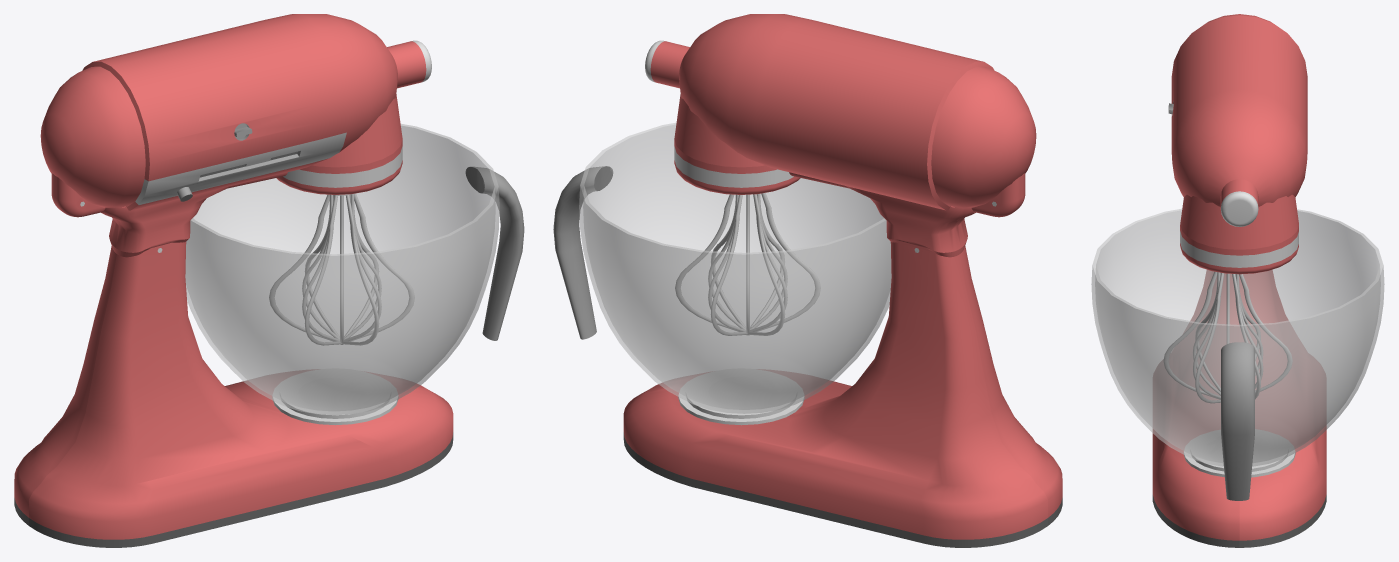
Rendered from batidora.fbx.
The picture shows the model from 3 angles, left to right: view 1: azimuth 30°, elevation 25°; view 2: azimuth 150°, elevation 25°; view 3: azimuth 270°, elevation 25°; orthographic projection. The views are drawn at different scales.
Visible parts, largest first — view 1: batidora; view 2: batidora; view 3: batidora.
Boxes of the visible parts, bbox=[...] form: batidora: bbox=[14, 14, 524, 547]; batidora: bbox=[553, 14, 1062, 547]; batidora: bbox=[1091, 14, 1384, 547].
Bounding box in the file's own units: 62.83 × 53.77 × 36.7.
